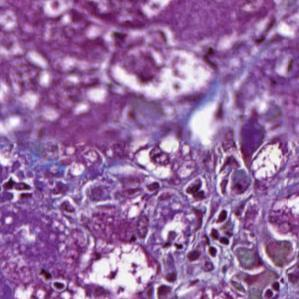inflammation: (178, 172, 219, 207)
